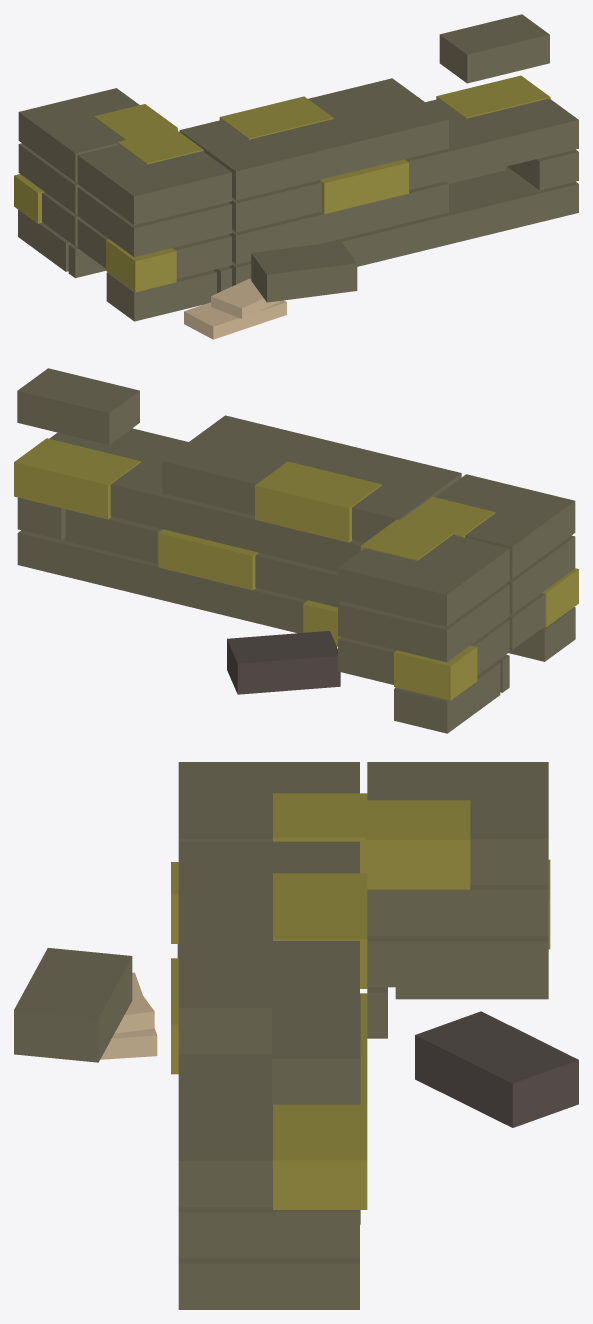
The model's file is SM_SacosRemate_v2_Irregular_e1_Danado_LOD1.fbx.
The picture shows the model from 3 angles, top to bottom: view 1: azimuth 30°, elevation 25°; view 2: azimuth 150°, elevation 25°; view 3: azimuth 270°, elevation 25°; orthographic projection. The views are drawn at different scales.
Parts seen in each view (by area): view 1: SM_sacos_piezas_v29_LOD1; view 2: SM_sacos_piezas_v29_LOD1; view 3: SM_sacos_piezas_v29_LOD1.
Part boxes in pixels (x1,y1,x2,y2): SM_sacos_piezas_v29_LOD1: [14, 14, 578, 339]; SM_sacos_piezas_v29_LOD1: [14, 368, 578, 733]; SM_sacos_piezas_v29_LOD1: [14, 762, 578, 1309].
Bounding box in the file's own units: 4.41 × 1.49 × 2.99.
